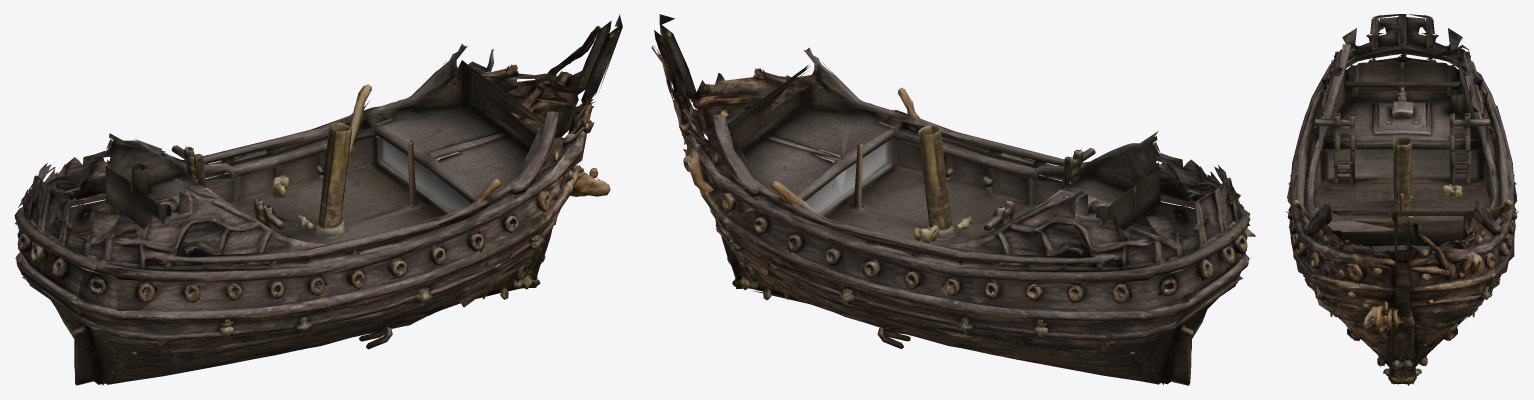
File: sunken-shipwreck.glb
3 renders of one model, left to right at view 1: azimuth 30°, elevation 25°; view 2: azimuth 150°, elevation 25°; view 3: azimuth 270°, elevation 25°, orthographic. The views are drawn at different scales.
Visible parts, largest first — view 1: sunken-shipwreck, sunken-shipwreck_far, sunken-shipwreck_lod; view 2: sunken-shipwreck, sunken-shipwreck_far, sunken-shipwreck_lod; view 3: sunken-shipwreck, sunken-shipwreck_far, sunken-shipwreck_lod.
Part boxes in pixels (x1,y1,x2,y2): sunken-shipwreck: (14, 20, 618, 385); sunken-shipwreck_far: (15, 14, 622, 384); sunken-shipwreck_lod: (14, 27, 618, 385); sunken-shipwreck: (653, 14, 1250, 385); sunken-shipwreck_far: (654, 23, 1255, 385); sunken-shipwreck_lod: (651, 14, 1250, 385); sunken-shipwreck: (1287, 14, 1517, 384); sunken-shipwreck_far: (1286, 14, 1518, 383); sunken-shipwreck_lod: (1288, 14, 1516, 385).
Bounding box in the file's own units: 54.15 × 22.15 × 22.76.
1 material, 1 textured.
